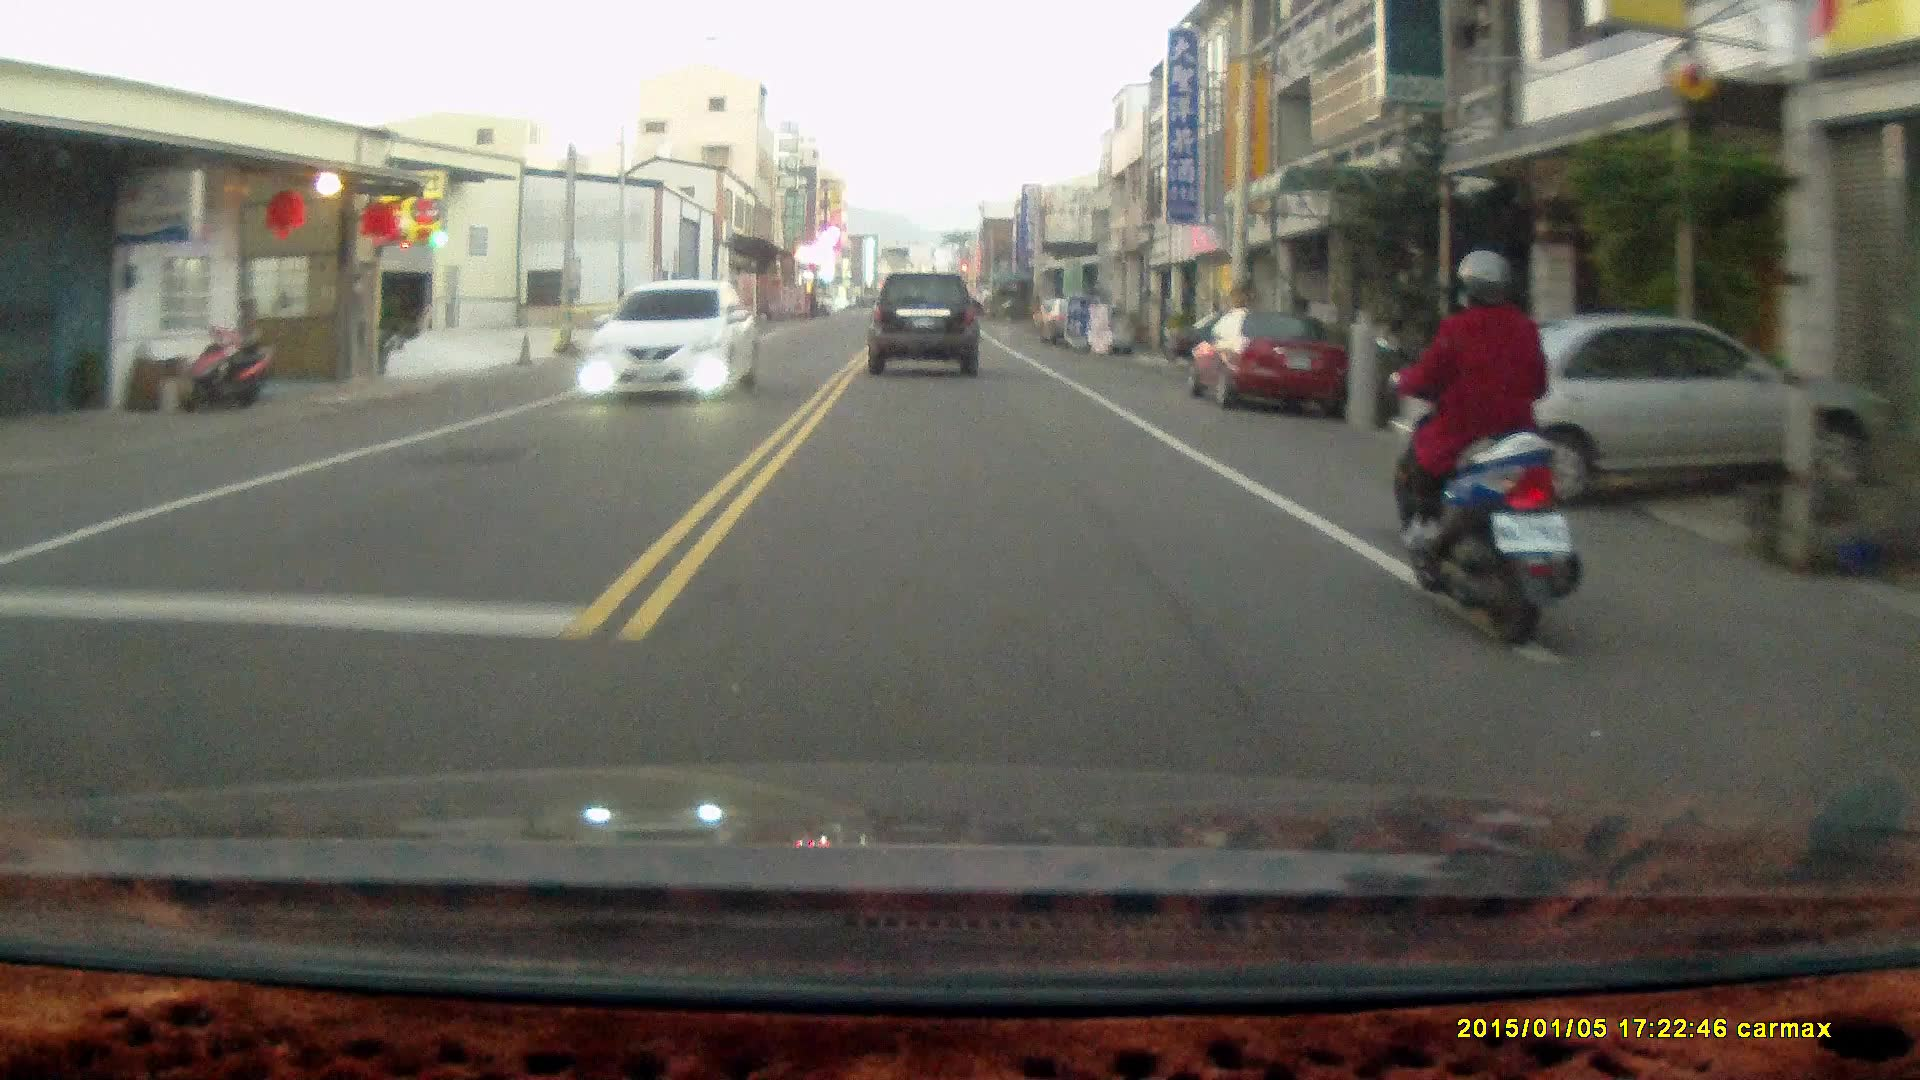rider: (1373, 241, 1581, 645)
vehicle: (1395, 313, 1857, 516), (590, 281, 761, 399), (1187, 304, 1350, 411), (868, 267, 983, 375)
